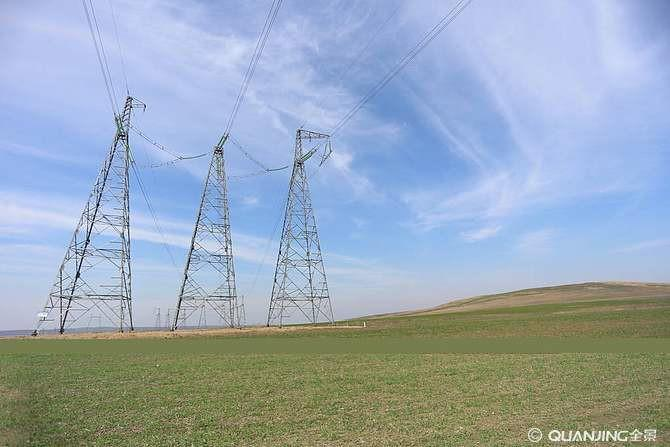power_tower: (26, 93, 150, 336), (269, 126, 349, 325), (172, 133, 248, 334)
